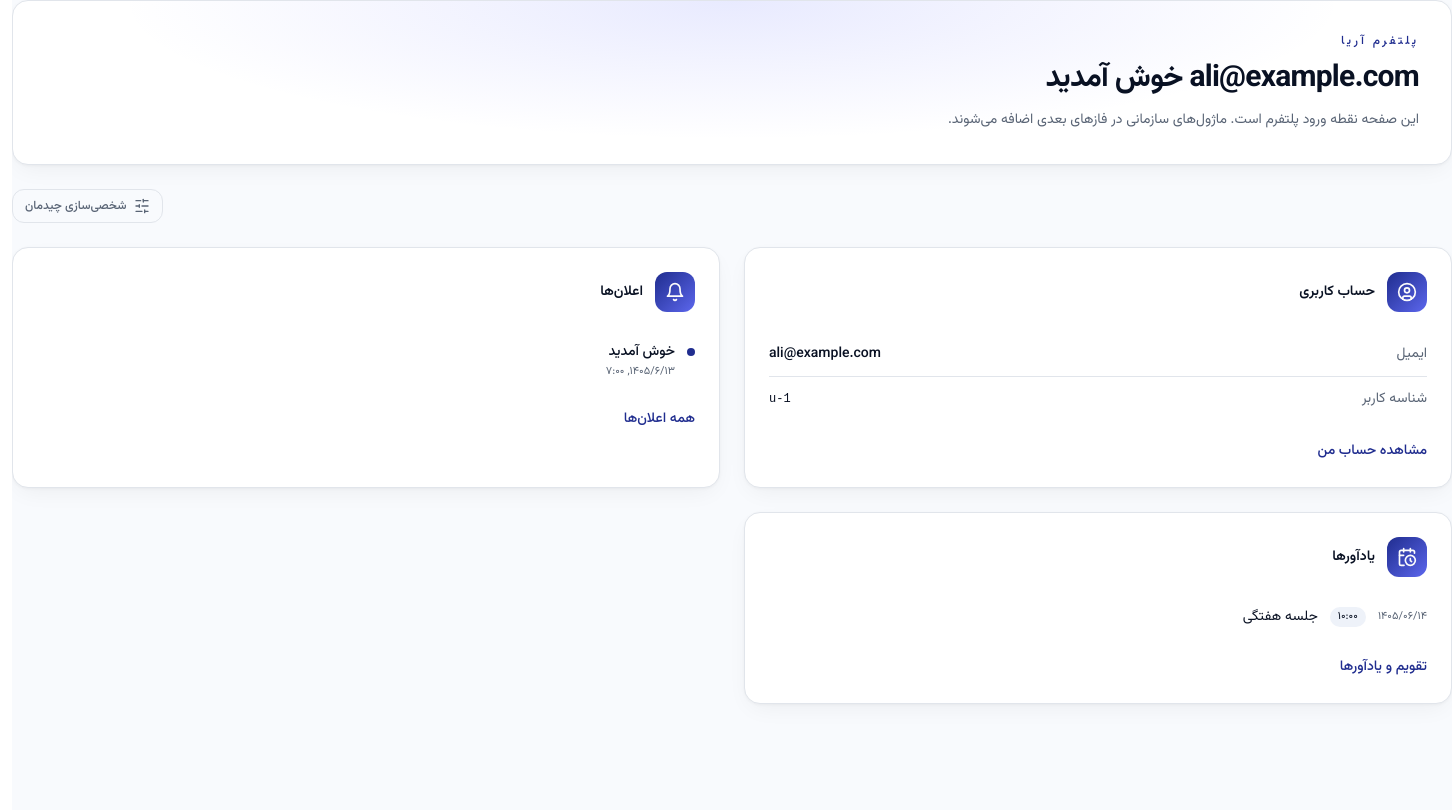
CoreDashboard › the layout editor › lists the full registry, hidden widgets included
Click the button with test id "core-layout-toggle": coordinates (88, 206) [12,189,163,223]
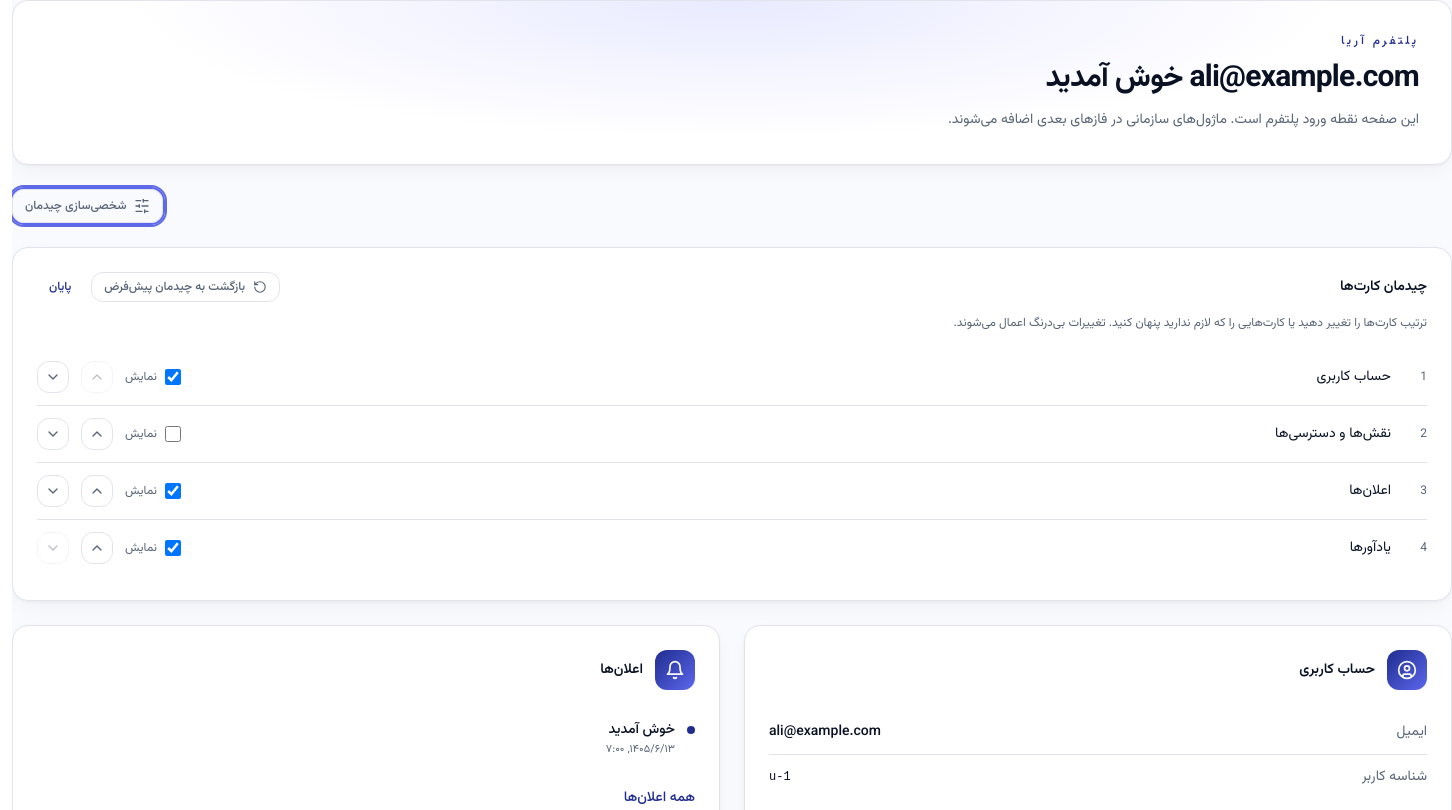
Expected: the element with test id "core-layout-editor" is shown, [12,247,1451,601]
Expected: the number of list items with test id "core-layout-row" is 4, [37,349,1427,406]; [37,406,1427,463]; [37,463,1427,520]; [37,532,1427,564]
